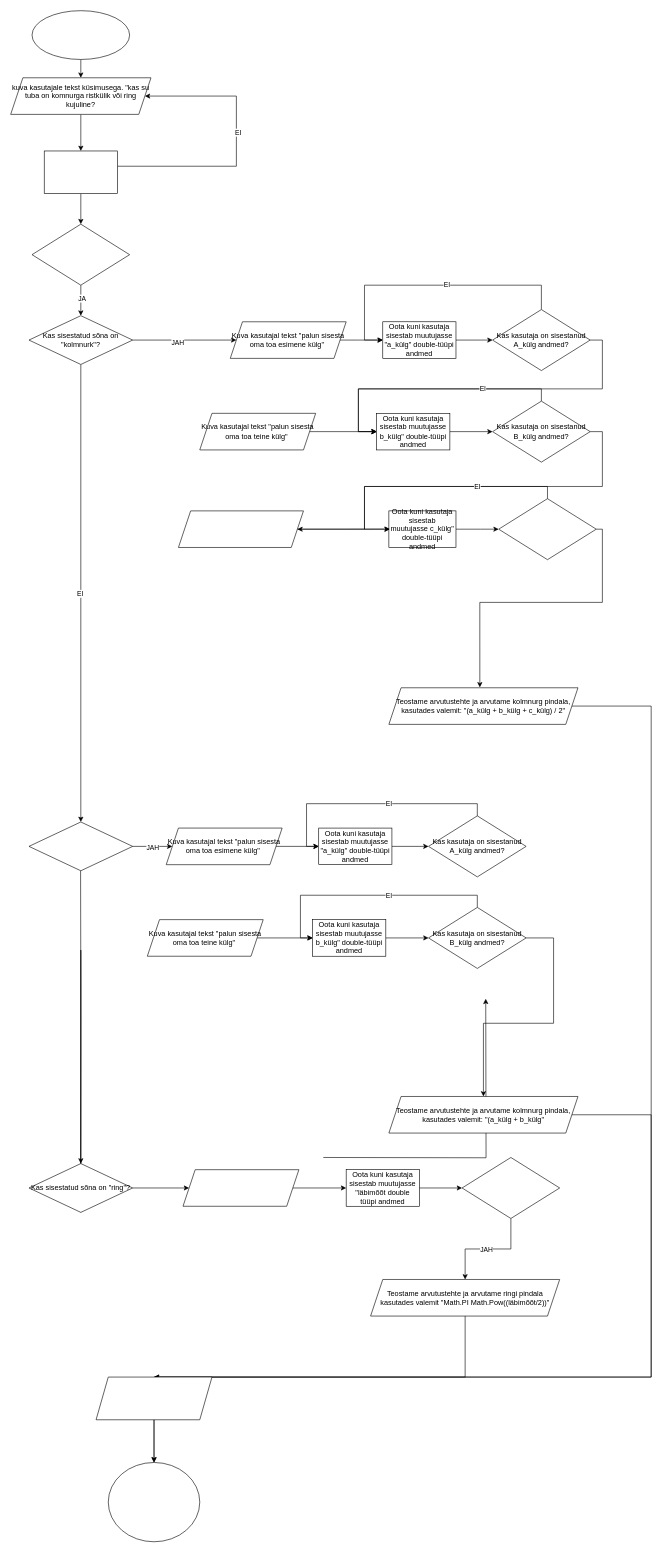
This 667x1552 diagram has some shape labels left out. Each missing label, with the centre of its shape:
Algus: (80,34)
Kas kasutaja on sisestanud C_külg andmed?: (547,529)
Kas kasutaja on sisestanud läbõõt andmed?: (510,1187)
Kas kasutaja on sisestanud midagi?: (80,254)
Kas sisestatud sõna on "ristküliku"?: (80,846)
Kuva kasutaja tekst "palun sisesta oma toa läbimõõt": (240,1187)
Kuva kasutajal tekst "palun sisesta oma toa kolmas külg": (240,528)
Kuva kasutajale tulemuse lausega "Sinu toa pindala on (tulemus)": (153,1398)
Lõpp: (154,1502)
Ootame kuni kasutaja sisestab muutujasse "kujund" string vastuse: (80,172)
